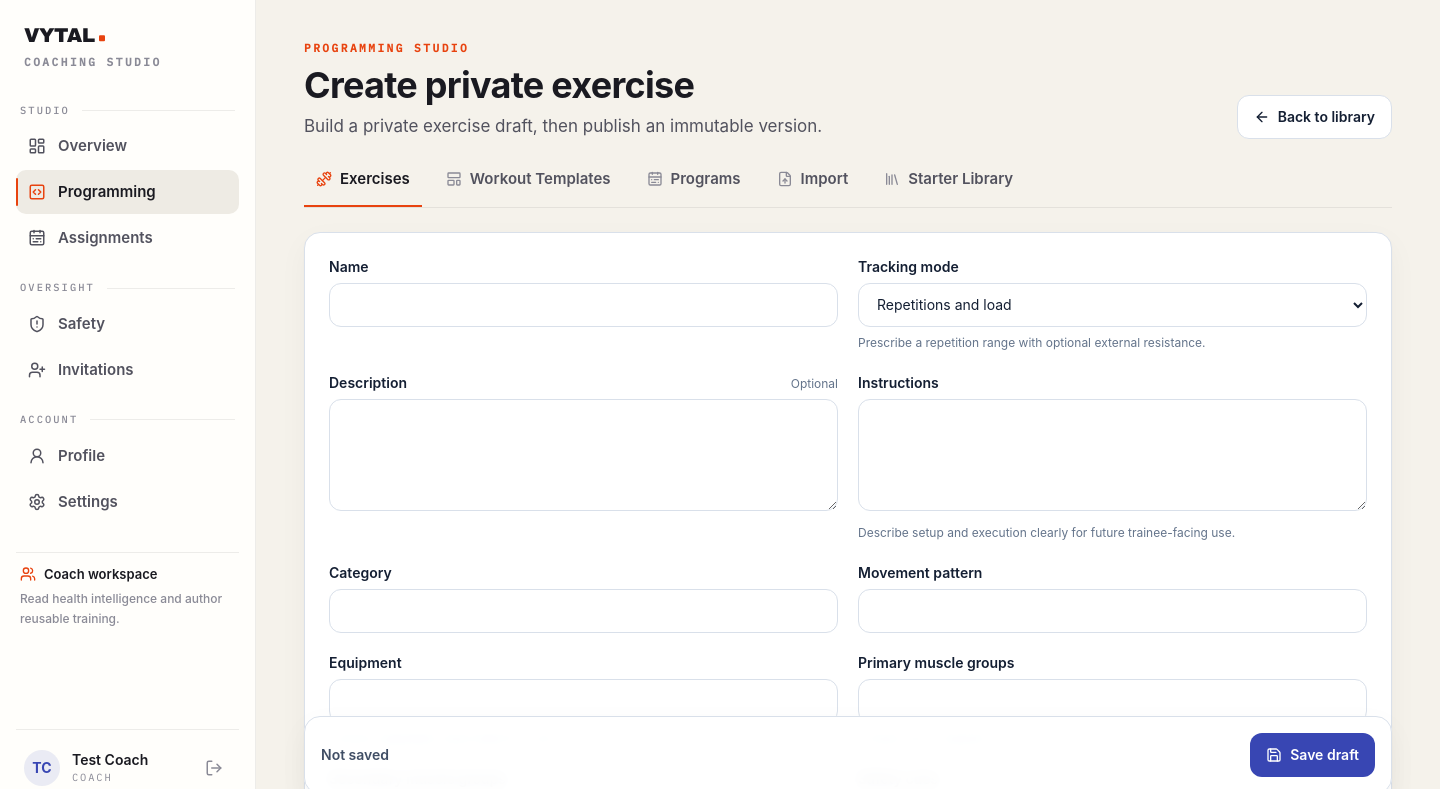
Test case: Programming exercise workspace › creates a private exercise draft with exact enum values and displays server errors
Step 1. Type "Coach row" into the field labelled "Name" → x=584, y=305, box left=329, top=283, right=838, bottom=327
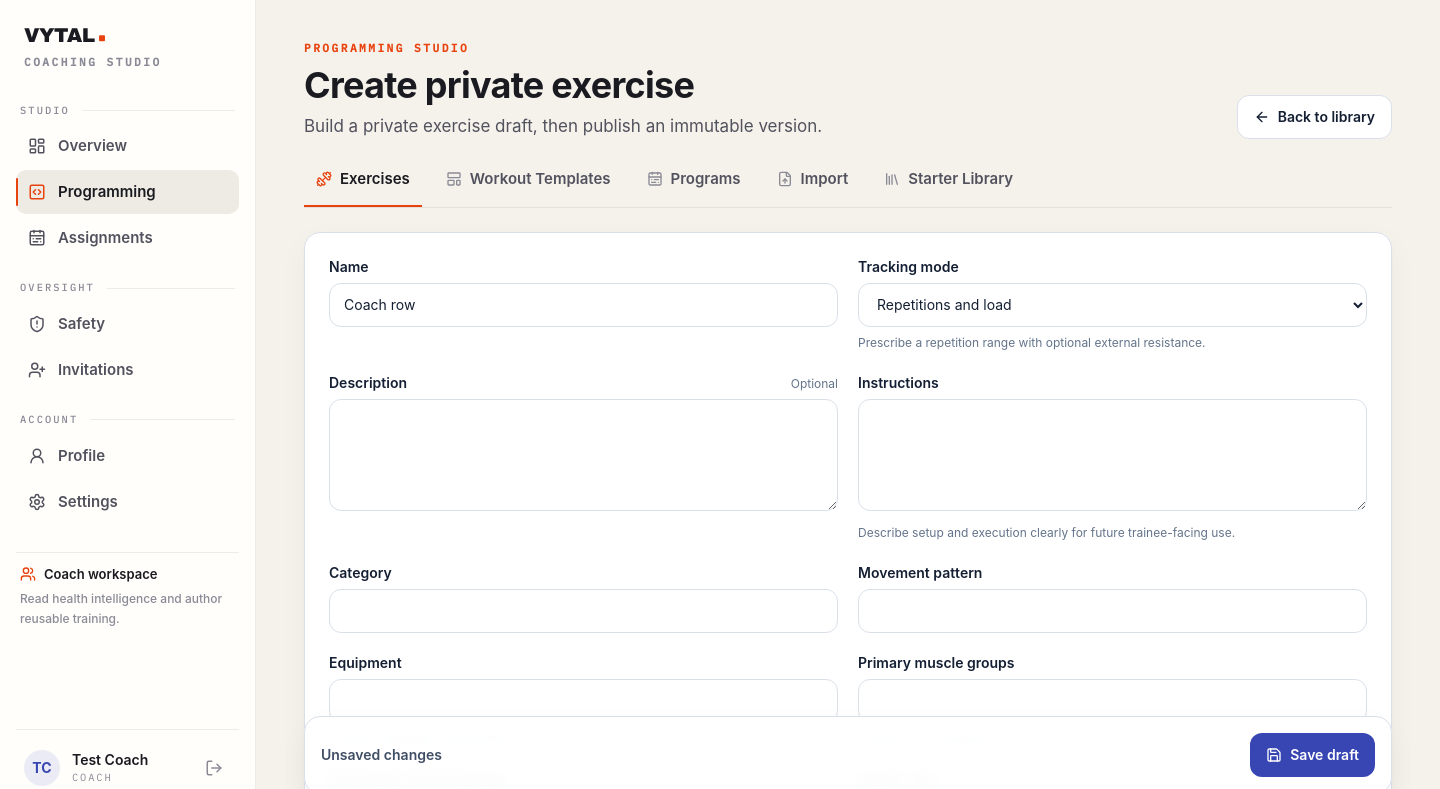
Step 2. Select "Repetitions only" in the dropdown labelled "Tracking mode" → x=1112, y=305, box left=858, top=283, right=1367, bottom=327
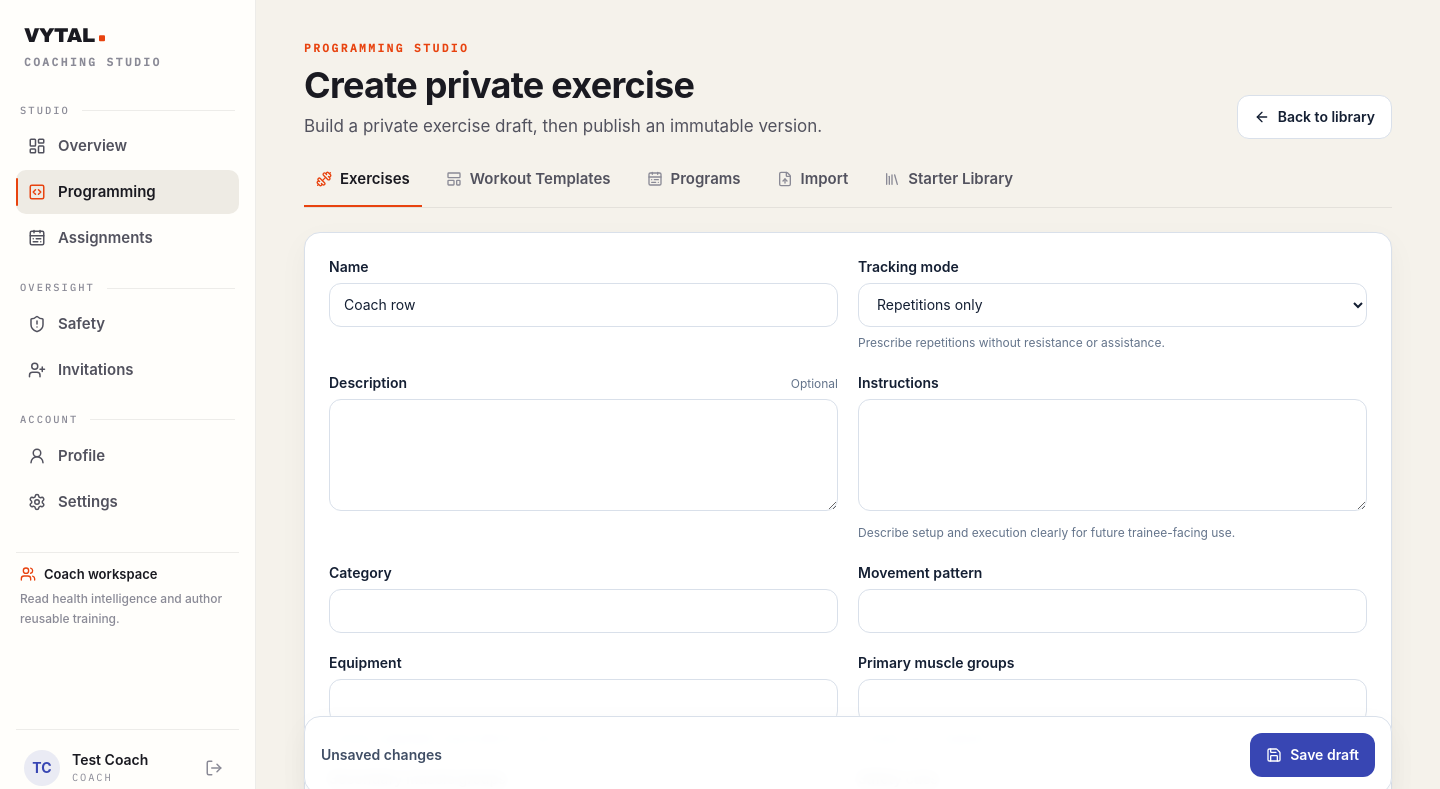
Step 3. Type "Pull with control." into the text box labelled "Instructions" → x=1112, y=455, box left=858, top=399, right=1367, bottom=511
Step 4. Type "strength" into the field labelled "Category" → x=584, y=611, box left=329, top=589, right=838, bottom=633
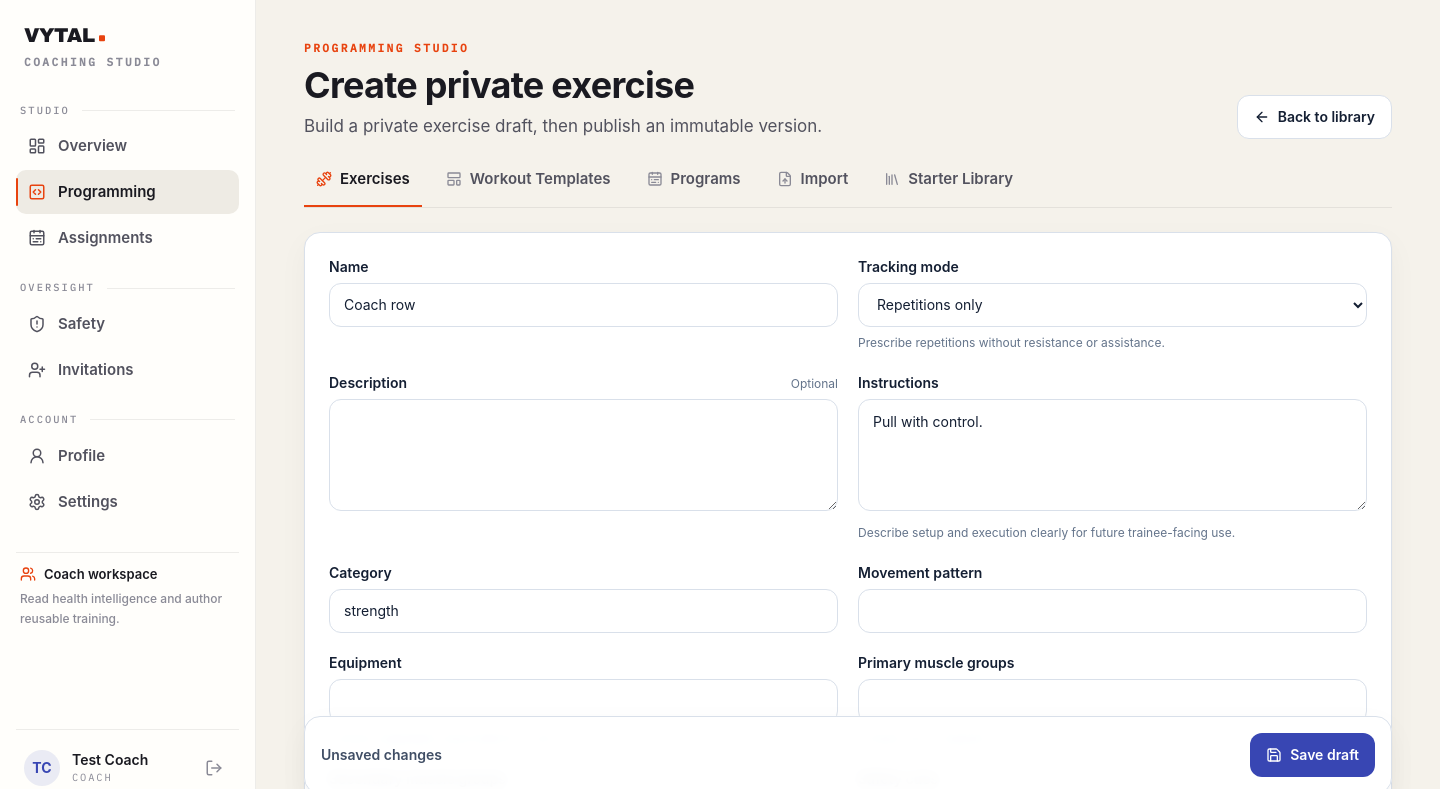
Step 5. Type "horizontal pull" into the field labelled "Movement pattern" → x=1112, y=611, box left=858, top=589, right=1367, bottom=633
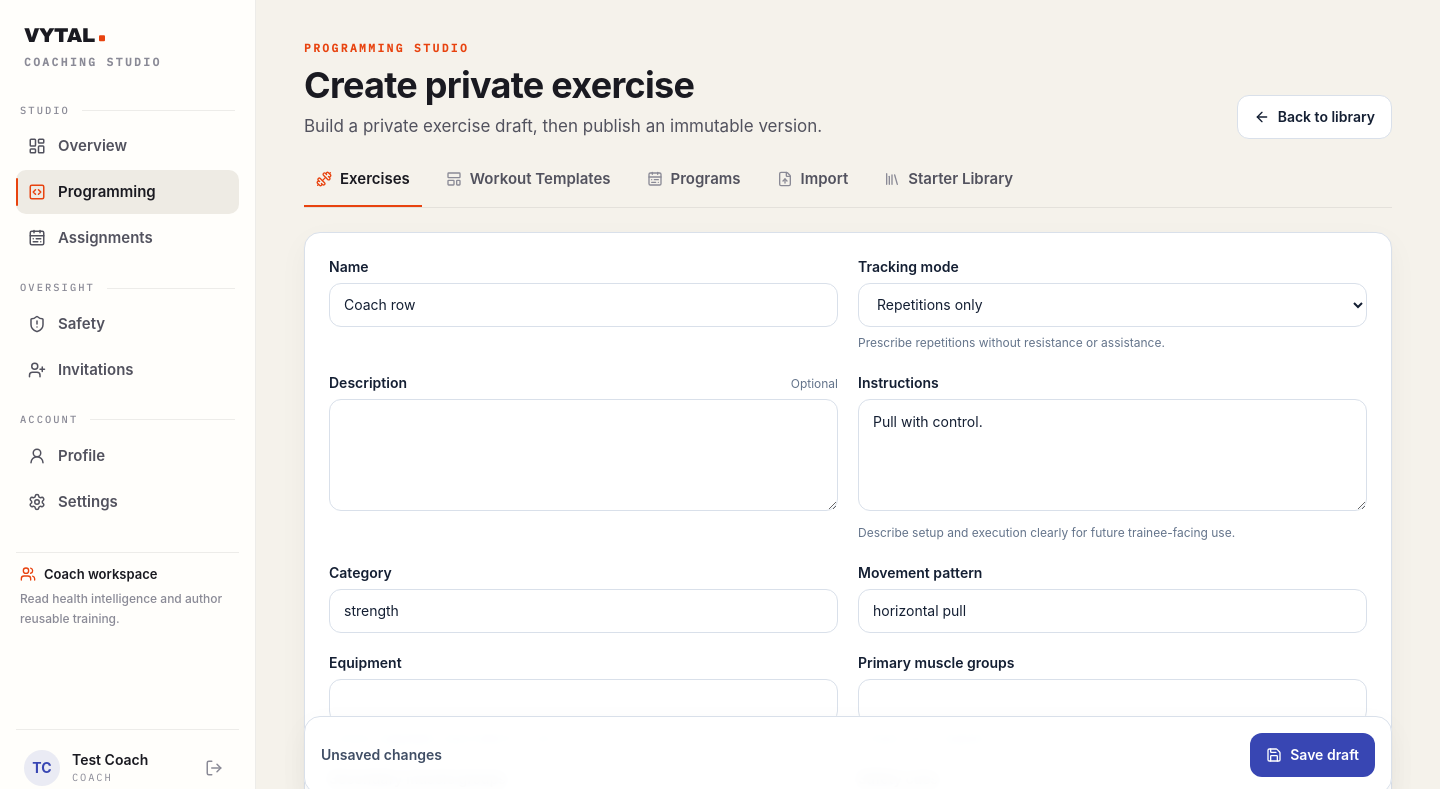
Step 6. Type "back, biceps" into the field labelled "Primary muscle groups" → x=1112, y=701, box left=858, top=679, right=1367, bottom=723
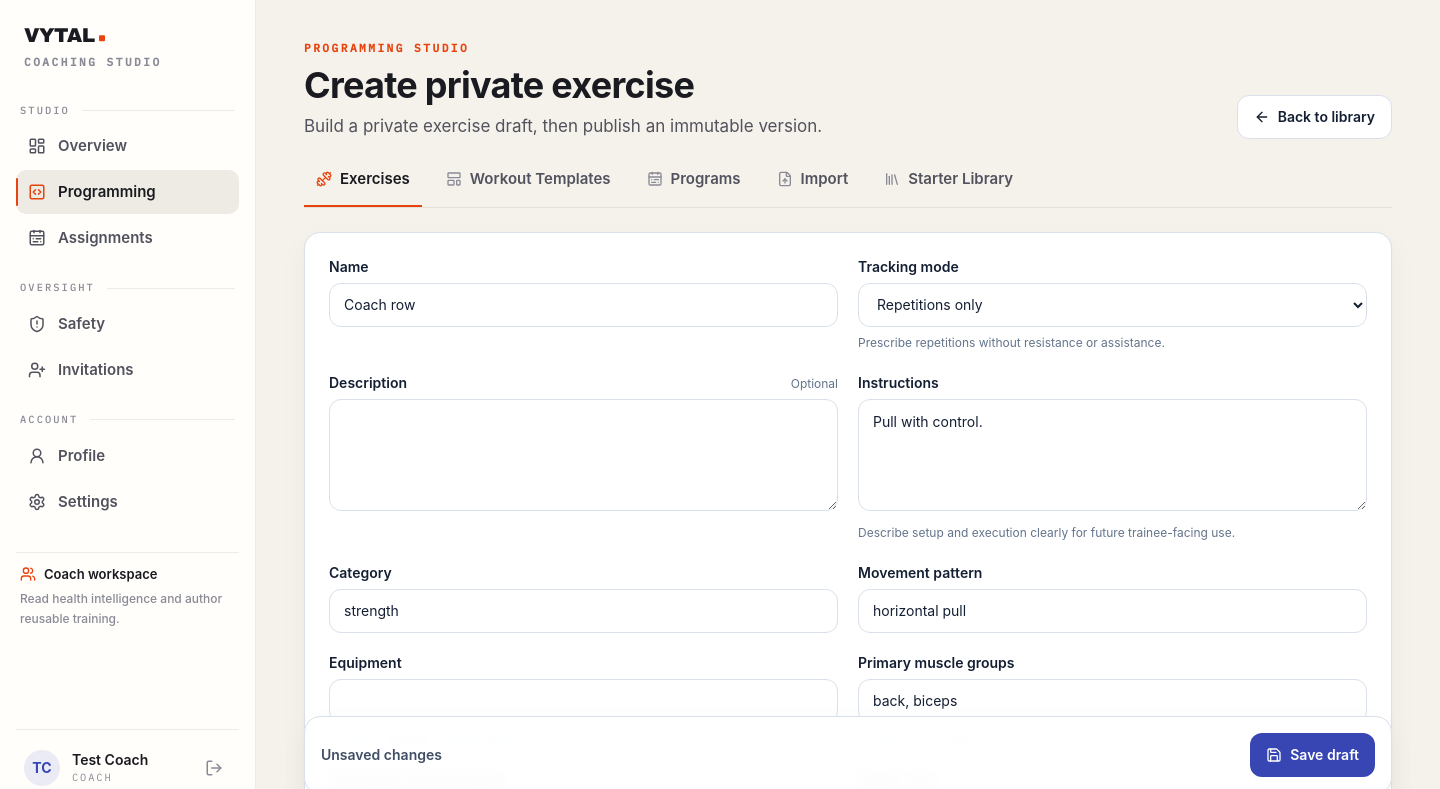
Step 7. Click the button "Save draft" → x=1313, y=755, box left=1250, top=733, right=1375, bottom=777
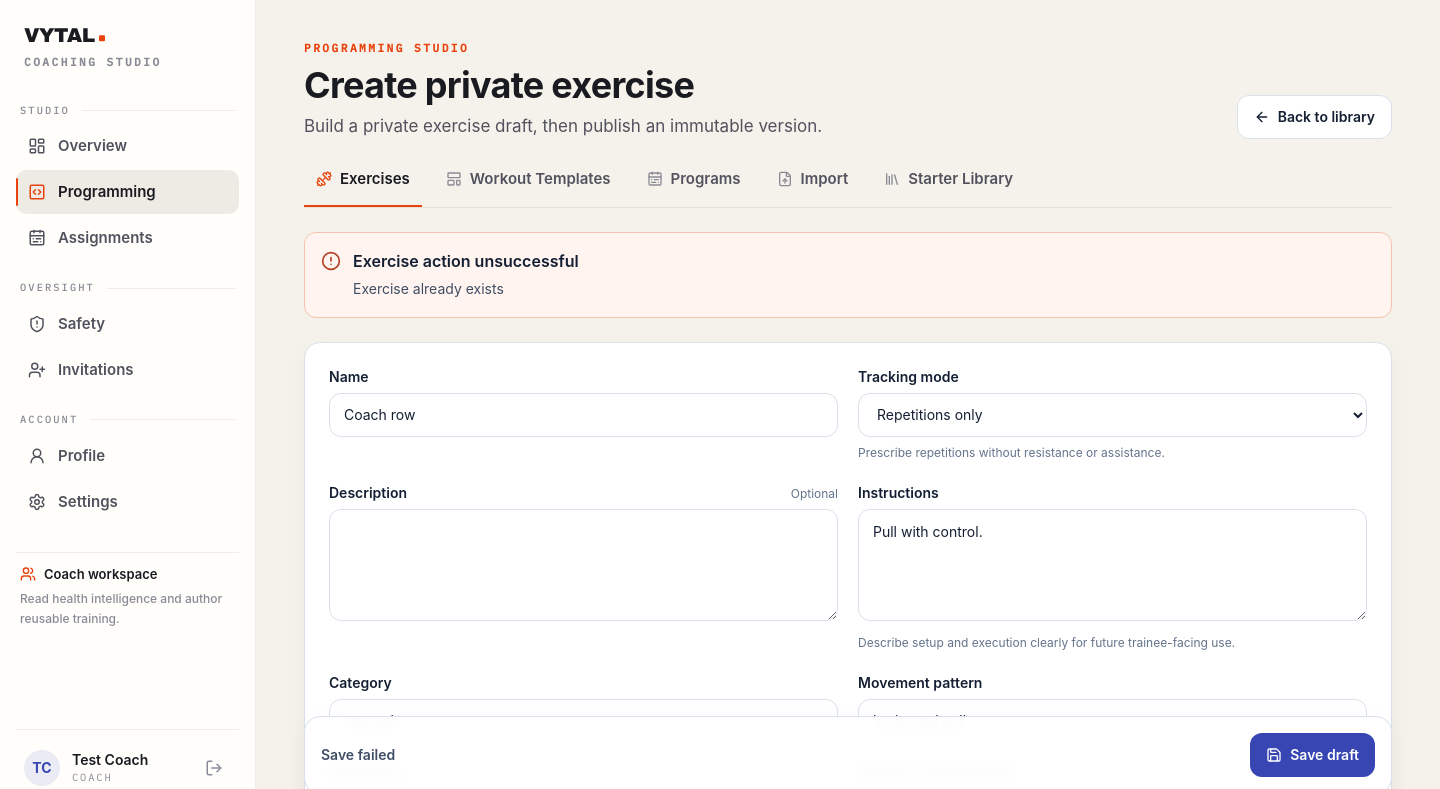
Expected: the text "Exercise already exists" is shown, left=353, top=280, right=504, bottom=297
